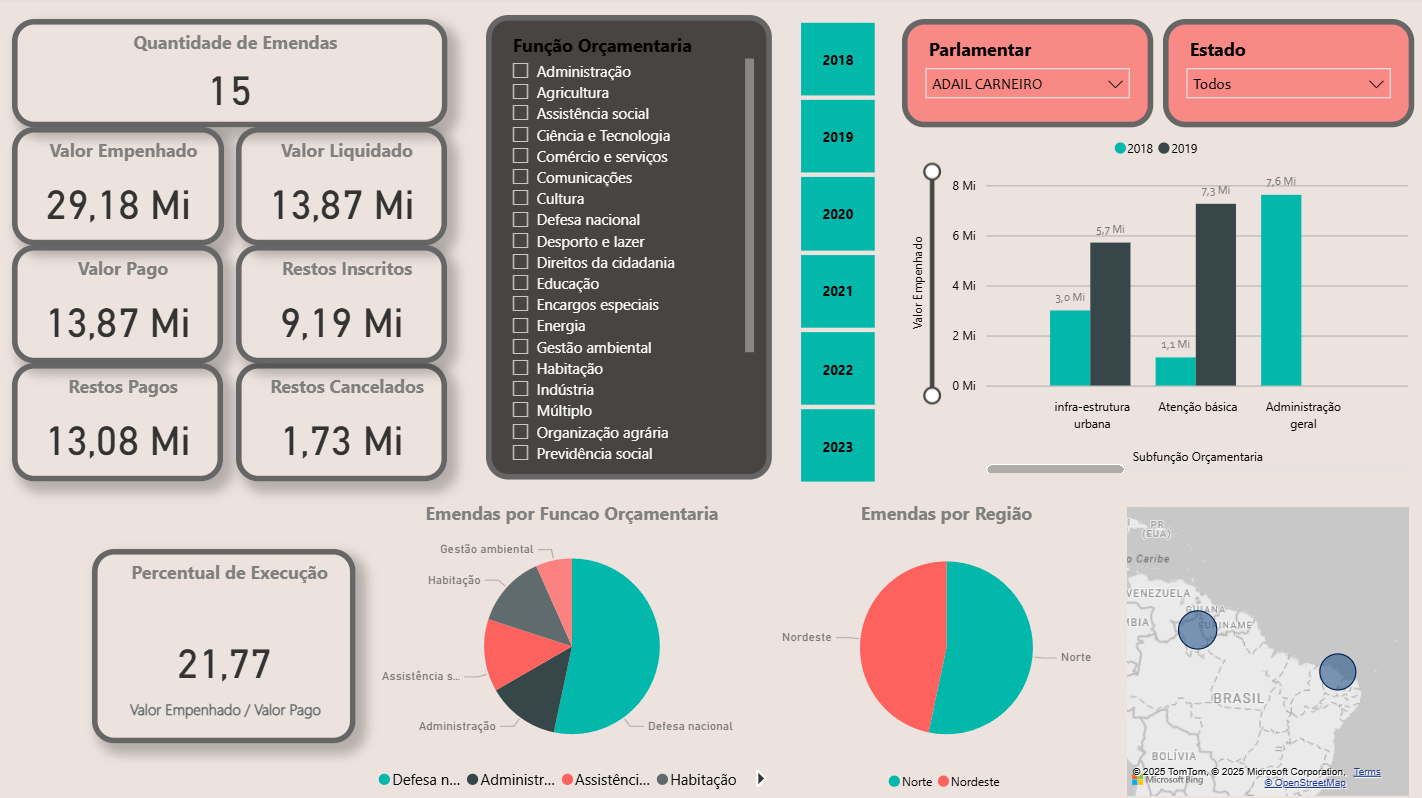

This screenshot's page, from the dashboard's own definition file:
{"tool":"powerbi","page":{"name":"Página 1","canvas":[1280,720],"ordinal":0},"visuals":[{"type":"slicer","fields":{"Values":["public dim_funcao.nome_funcao"]},"box":[437,16.1,256.1,415.5],"z":0},{"type":"slicer","fields":{"Values":["public dim_tempo.ano"]},"box":[693.1,16.1,116.4,425.4],"z":1000},{"type":"map","fields":{"Size":["Sum(public fato_emendas.quantidade_emendas)"],"Category":["public dim_local.uf"]},"box":[1005.8,451.7,262.8,268.5],"z":2000},{"type":"pieChart","title":"Emendas por Região","fields":{"Y":["Sum(public fato_emendas.quantidade_emendas)"],"Category":["public dim_local.região"]},"box":[693.1,451.3,312.5,268.7],"z":3000},{"type":"pieChart","title":"Emendas por Funcao Orçamentaria","fields":{"Y":["Sum(public fato_emendas.quantidade_emendas)"],"Category":["public dim_funcao.nome_funcao"]},"box":[334.9,451.3,358.2,268.7],"z":4000},{"type":"clusteredColumnChart","fields":{"Category":["public dim_funcao.nome_subfuncao"],"Y":["Sum(public fato_emendas.valor_empenhado)"],"Series":["public dim_tempo.ano"]},"box":[809.6,116.4,458.5,315.2],"z":5000},{"type":"card","title":"Quantidade de Emendas","fields":{"Values":["Sum(public fato_emendas.quantidade_emendas)"]},"box":[12.3,19.9,390,96.8],"z":6000},{"type":"card","title":"Valor Empenhado","fields":{"Values":["Sum(public fato_emendas.valor_empenhado)"]},"box":[12.3,116.7,189.8,106.3],"z":7000},{"type":"card","title":"Valor Liquidado","fields":{"Values":["Sum(public fato_emendas.valor_liquidado)"]},"box":[213.5,116.7,188.8,106.3],"z":8000},{"type":"card","title":"Valor Pago","fields":{"Values":["Sum(public fato_emendas.valor_pago)"]},"box":[12.3,222,188.8,106.3],"z":9000},{"type":"card","title":"Restos Cancelados","fields":{"Values":["Sum(public fato_emendas.valor_restos_a_pagar_cancelados)"]},"box":[213.5,327.4,188.8,106.3],"z":10000},{"type":"card","title":"Restos Inscritos","fields":{"Values":["Sum(public fato_emendas.valor_restos_a_pagar_inscritos)"]},"box":[213.5,222,188.8,106.3],"z":11000},{"type":"card","title":"Restos Pagos","fields":{"Values":["Sum(public fato_emendas.valor_restos_a_pagar_pagos)"]},"box":[12.3,327.4,188.8,106.3],"z":12000},{"type":"slicer","fields":{"Values":["public dim_parlamentar.parlamentar"]},"box":[809.6,19.7,224.8,96.7],"z":13000},{"type":"slicer","fields":{"Values":["public dim_local.uf"]},"box":[1043.3,19.7,224.8,96.7],"z":14000},{"type":"card","title":"Percentual de Execução","fields":{"Values":["Avg(public fato_emendas.percentual_execucao)"]},"box":[84.2,494.3,236.4,173.7],"z":15000},{"type":"textbox","box":[99.4,623.3,208.7,44.8],"z":16000}]}

Visuals, with their boxes in screenshot pixels (x1, y1, x2, y2), scaled from the page's 1280x720 canvas onto the 1422x798 screenshot:
slicer - public dim_funcao.nome_funcao: region(485, 18, 770, 478)
slicer - public dim_tempo.ano: region(770, 18, 899, 489)
map - Sum(public fato_emendas.quantidade_emendas) x public dim_local.uf: region(1117, 501, 1409, 797)
"Emendas por Região" pieChart: region(770, 500, 1117, 797)
"Emendas por Funcao Orçamentaria" pieChart: region(372, 500, 770, 797)
clusteredColumnChart - public dim_funcao.nome_subfuncao x Sum(public fato_emendas.valor_empenhado): region(899, 129, 1409, 478)
"Quantidade de Emendas" card: region(14, 22, 447, 129)
"Valor Empenhado" card: region(14, 129, 225, 247)
"Valor Liquidado" card: region(237, 129, 447, 247)
"Valor Pago" card: region(14, 246, 223, 364)
"Restos Cancelados" card: region(237, 363, 447, 481)
"Restos Inscritos" card: region(237, 246, 447, 364)
"Restos Pagos" card: region(14, 363, 223, 481)
slicer - public dim_parlamentar.parlamentar: region(899, 22, 1149, 129)
slicer - public dim_local.uf: region(1159, 22, 1409, 129)
"Percentual de Execução" card: region(94, 548, 356, 740)
textbox: region(110, 691, 342, 740)
